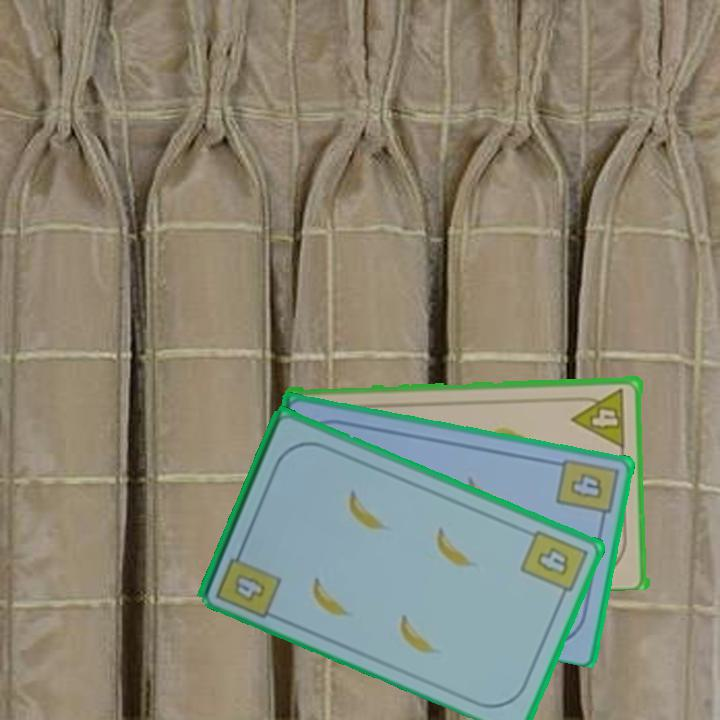4b: (517, 525, 591, 603), (212, 541, 284, 621), (553, 454, 621, 526)
4p: (570, 384, 629, 449)
